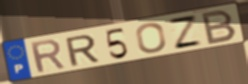5: (103, 26, 130, 60)
B: (201, 8, 239, 46)
O: (135, 21, 169, 54)
R: (28, 37, 68, 75), (63, 33, 101, 68)
Z: (166, 14, 205, 50)
